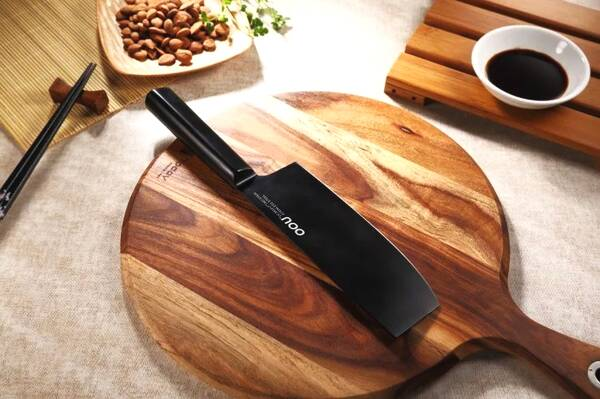knief: (150, 99, 439, 322)
